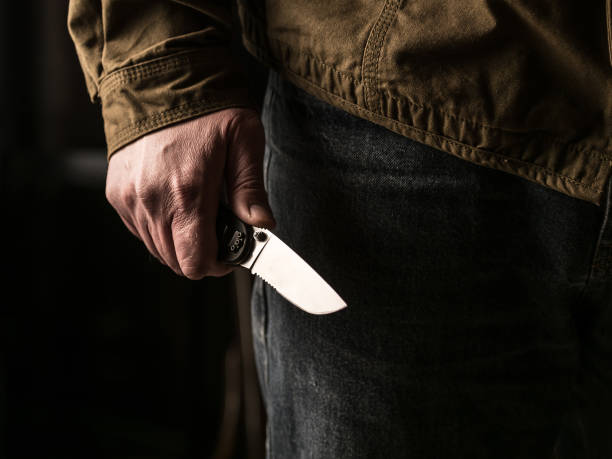knife: (214, 200, 346, 318)
